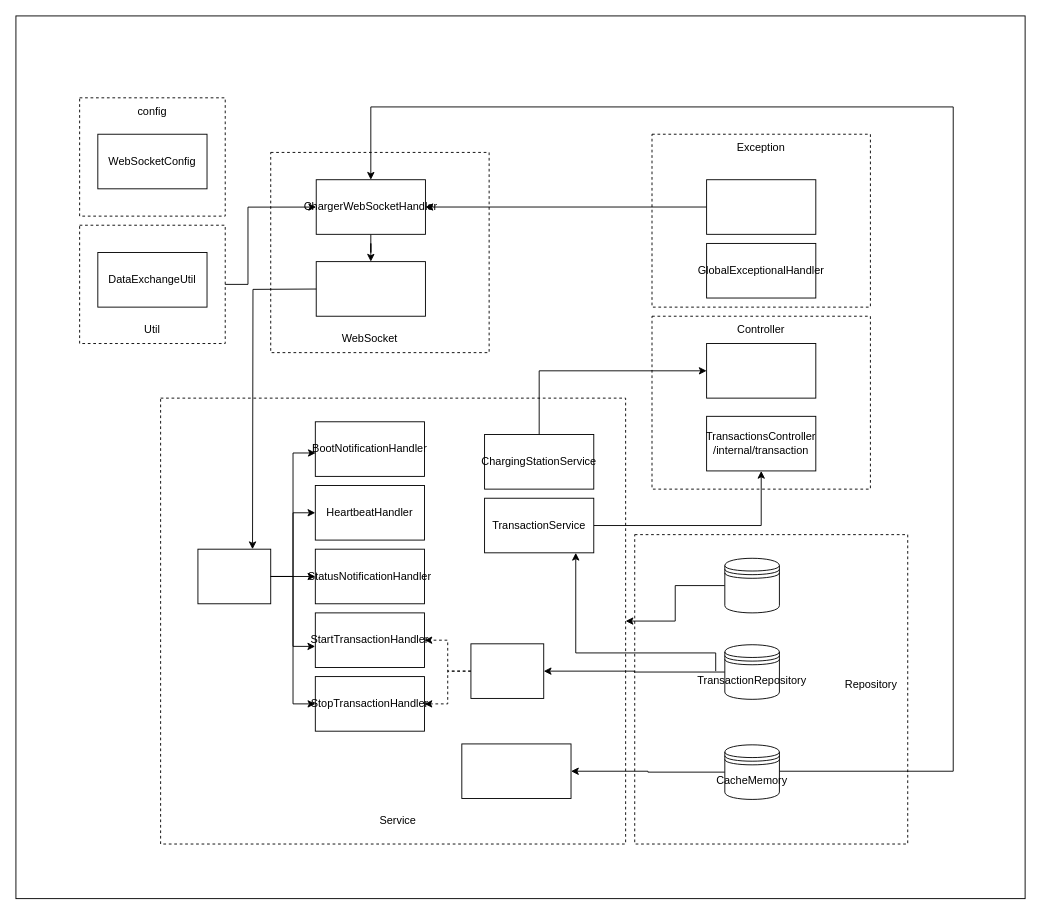
The diagram is 1041 pixels wide and 915 high, and some of its shapes have lost their labels. Here are the shapes that lost their labels. From the top down, the centre of each, then its label:
(761,206): WebSocketExceptionalHandler
(370,288): ActionHandlerFactory
(761,370): ChargingStationController /internal/stations
(234,576): ActionHandler
(751,585): ChargingStationRepository
(507,670): TransactionHandler
(516,771): ChargingStationStatusMonitor
